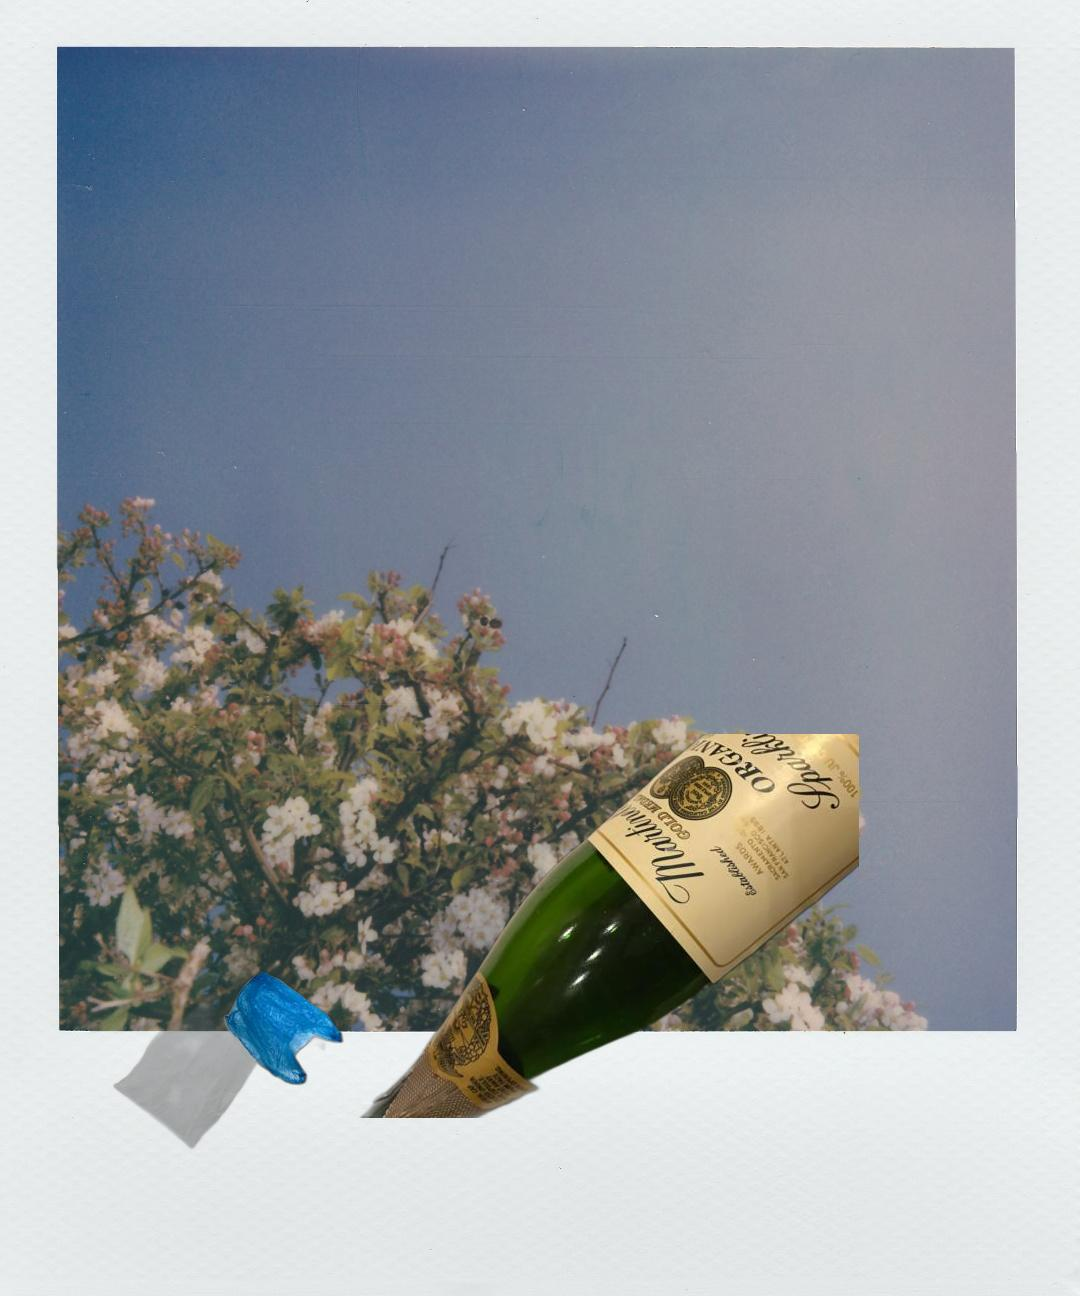glass: (347, 734, 859, 1118)
plastic-bag: (112, 967, 345, 1152)
